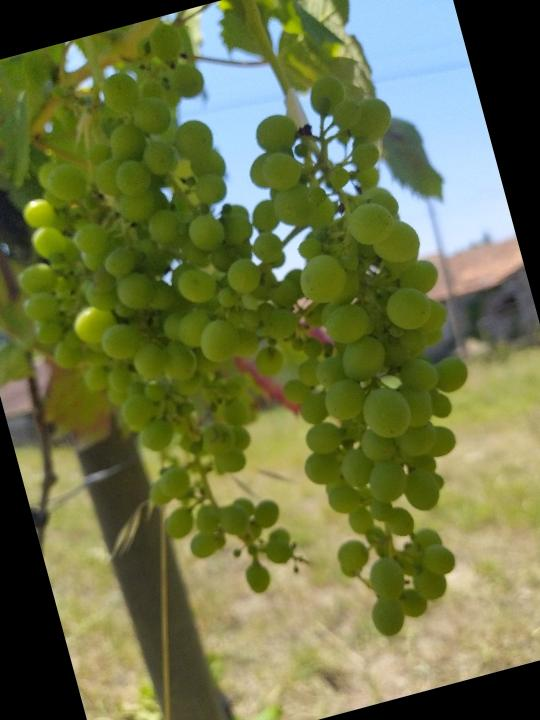grape: (0, 16, 343, 632), (206, 58, 531, 654)
